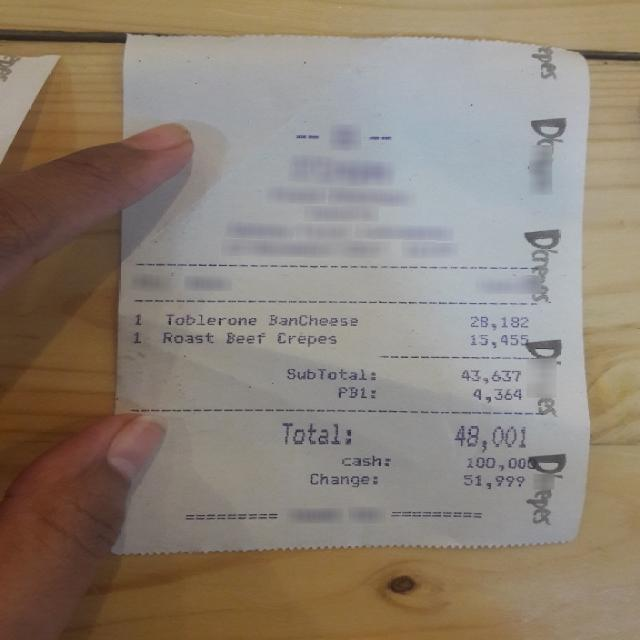kertas: (116, 38, 589, 552)
